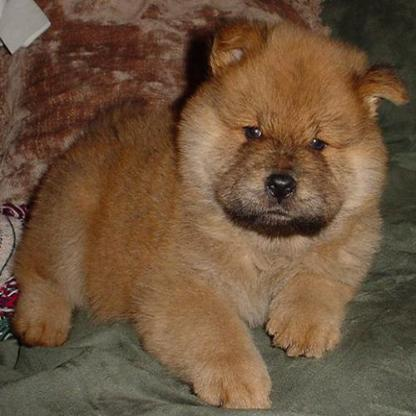chow: (7, 16, 412, 412)
